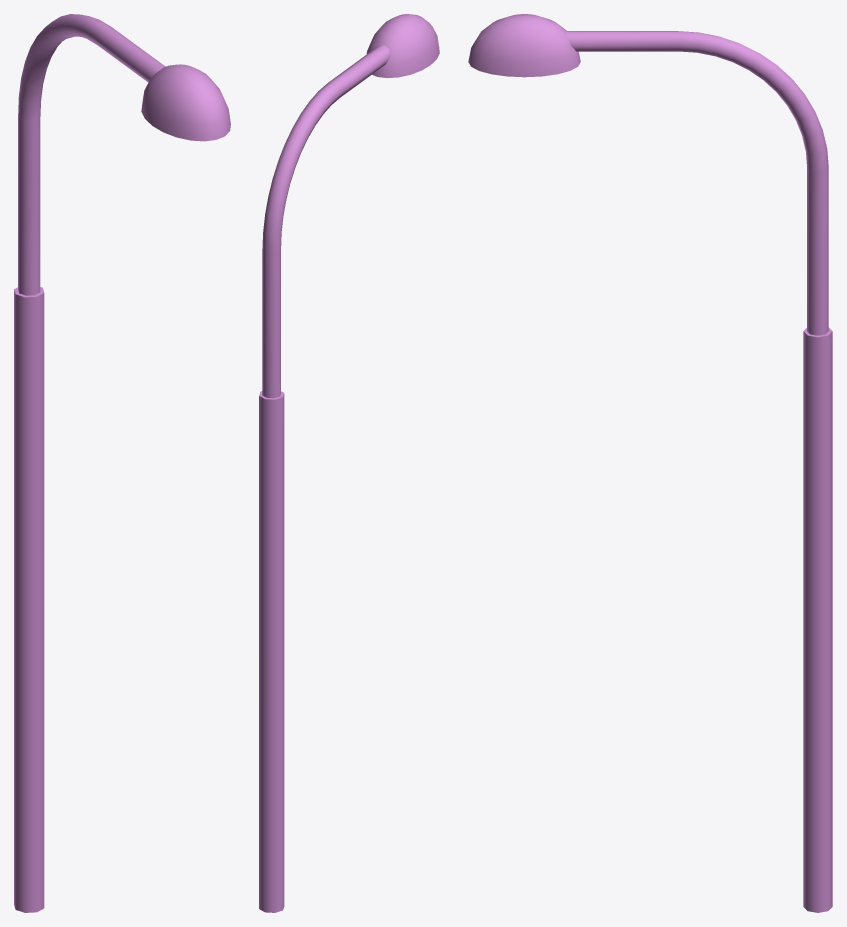
File: StreetLamp.fbx
3 renders of one model, left to right at view 1: azimuth 30°, elevation 25°; view 2: azimuth 150°, elevation 25°; view 3: azimuth 270°, elevation 25°, orthographic. The views are drawn at different scales.
Visible parts, largest first — view 1: Lamp; view 2: Lamp; view 3: Lamp.
Part boxes in pixels (x1=…): Lamp: x1=14, y1=14, x2=230, y2=912; Lamp: x1=259, y1=14, x2=439, y2=912; Lamp: x1=468, y1=14, x2=832, y2=912.
Size of the model in its own units: 20.16 by 274 by 102.
